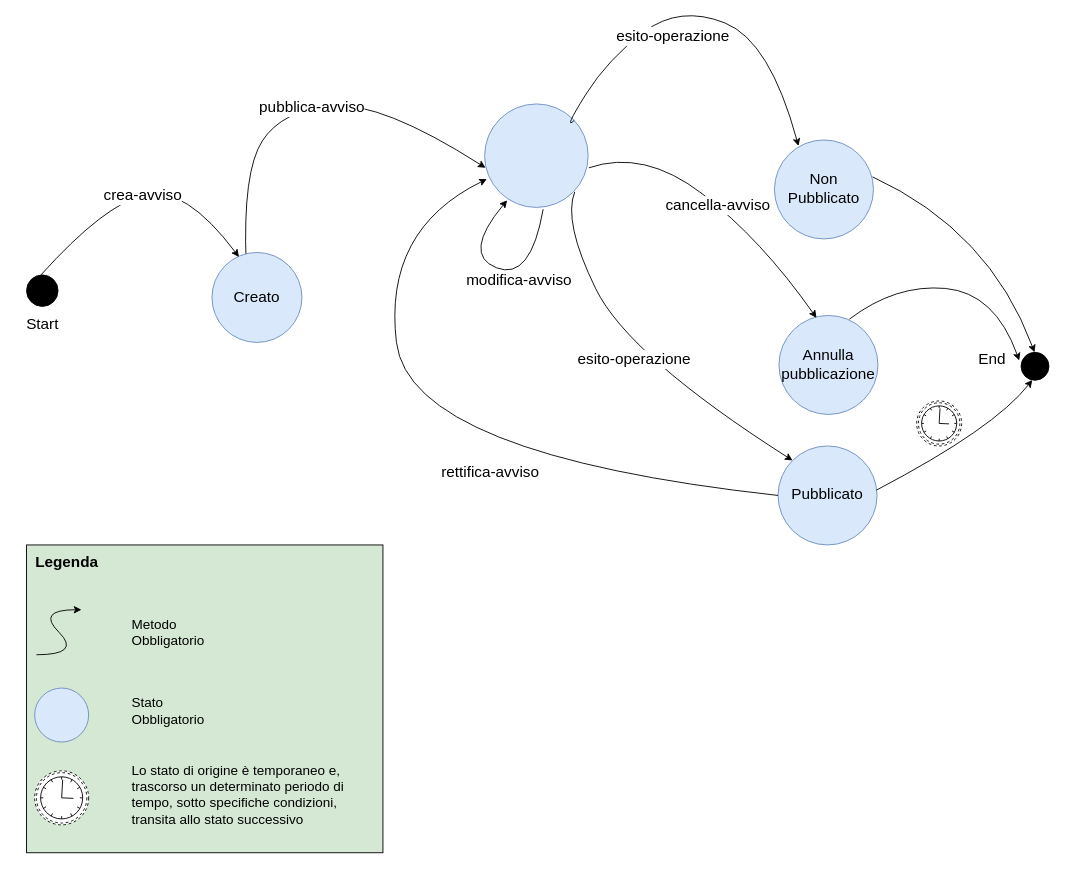
This 1065x869 diagram has some shape labels left out. The box of each missing label's shape, as (x1, y1, x2, y2) in pixels:
In attesa pubblicazione: (484, 103, 588, 207)
Stato: (34, 687, 89, 742)
